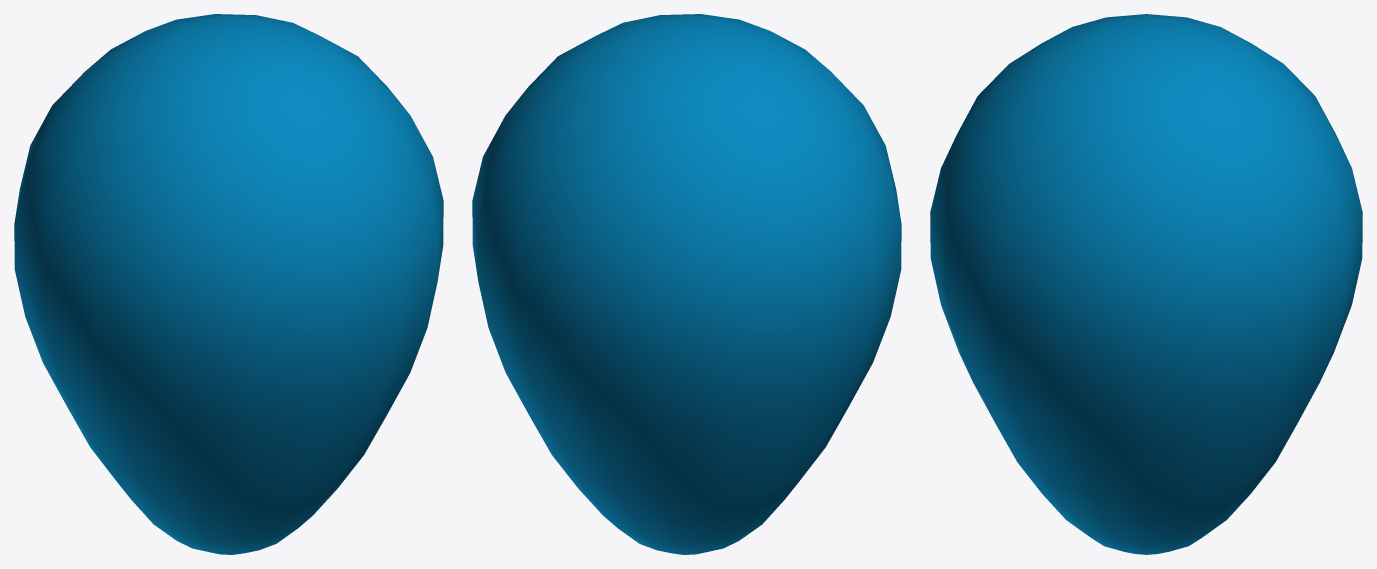
The model's file is ascent-bounce.glb.
3 views of the same model, side by side, from view 1: azimuth 30°, elevation 25°; view 2: azimuth 150°, elevation 25°; view 3: azimuth 270°, elevation 25° (orthographic).
Parts seen in each view (by area): view 1: Balloon.007; view 2: Balloon.007; view 3: Balloon.007.
Boxes of the visible parts, x1,y1,x2,y2 form: Balloon.007: (14,14,443,554); Balloon.007: (472,14,901,554); Balloon.007: (930,14,1362,554).
Size of the model in its own units: 0.2648 by 0.3452 by 0.2648.
